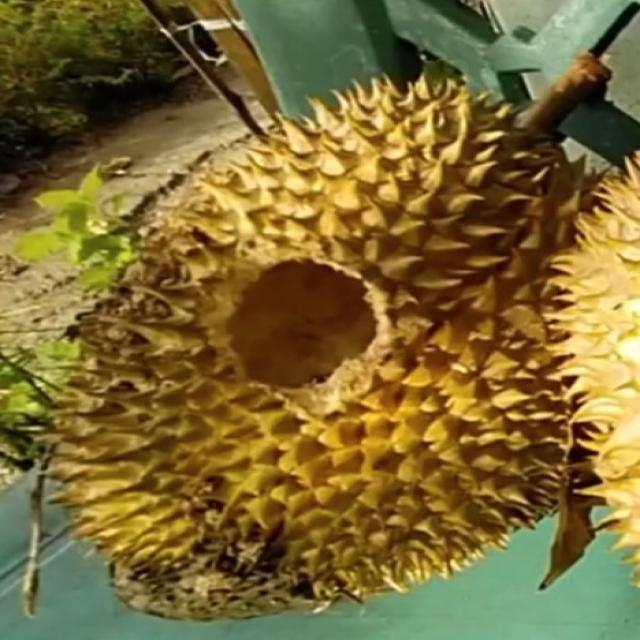defective: (43, 67, 616, 620)
